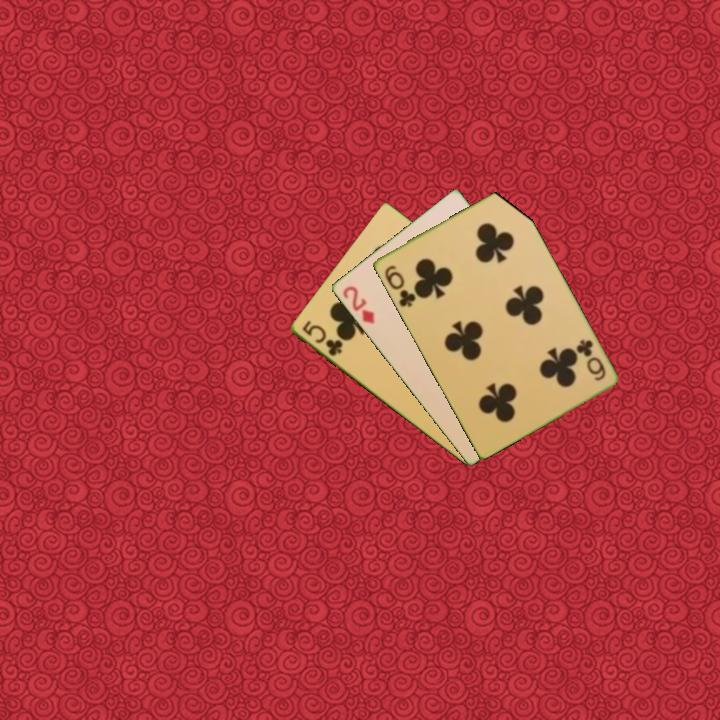2d: (339, 282, 377, 327)
5c: (298, 317, 345, 359)
6c: (381, 261, 418, 310), (572, 336, 608, 384)
